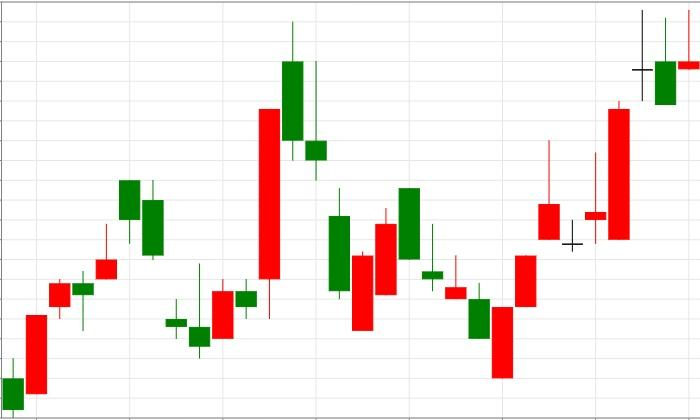three_black_crows_fall: (189, 20, 351, 358)
three_white_soldiers_rise: (399, 139, 560, 378)
